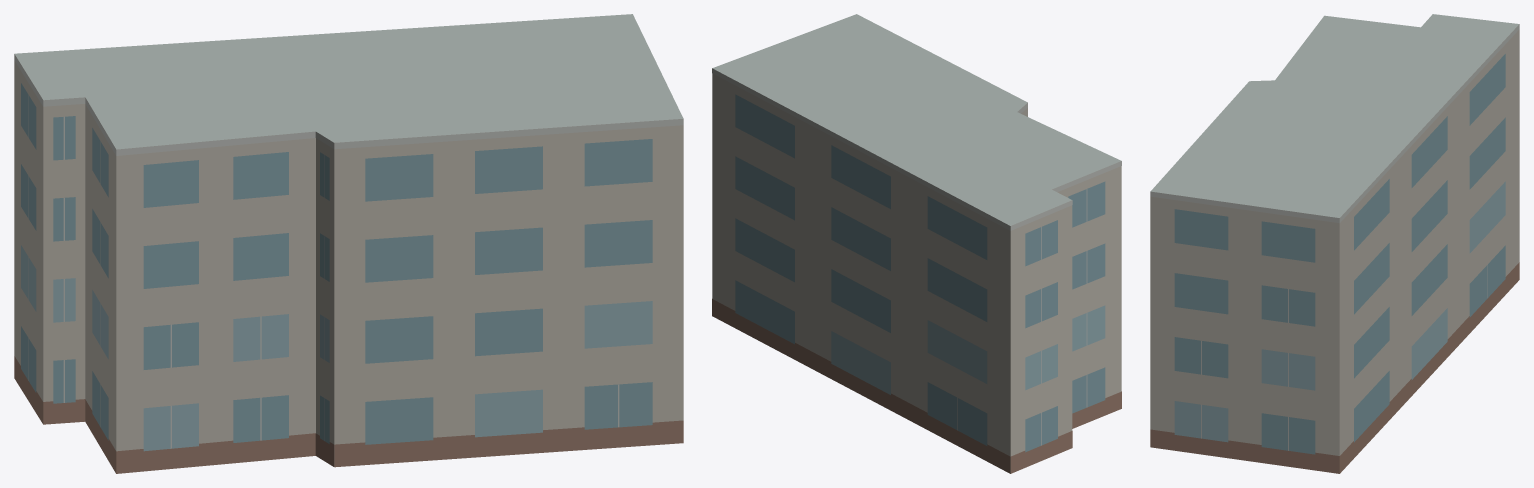
Rendered from survey-upis-32642397.glb.
3 renders of one model, left to right at view 1: azimuth 30°, elevation 25°; view 2: azimuth 150°, elevation 25°; view 3: azimuth 270°, elevation 25°, orthographic. The views are drawn at different scales.
Visible parts, largest first — view 1: survey-upis-32642397.tmp; view 2: survey-upis-32642397.tmp; view 3: survey-upis-32642397.tmp.
Part boxes in pixels (bbox=[...]): survey-upis-32642397.tmp: bbox=[14, 14, 683, 473]; survey-upis-32642397.tmp: bbox=[712, 14, 1121, 473]; survey-upis-32642397.tmp: bbox=[1150, 14, 1519, 473].
Bounding box in the file's own units: 20.89 × 12.2 × 15.97.
